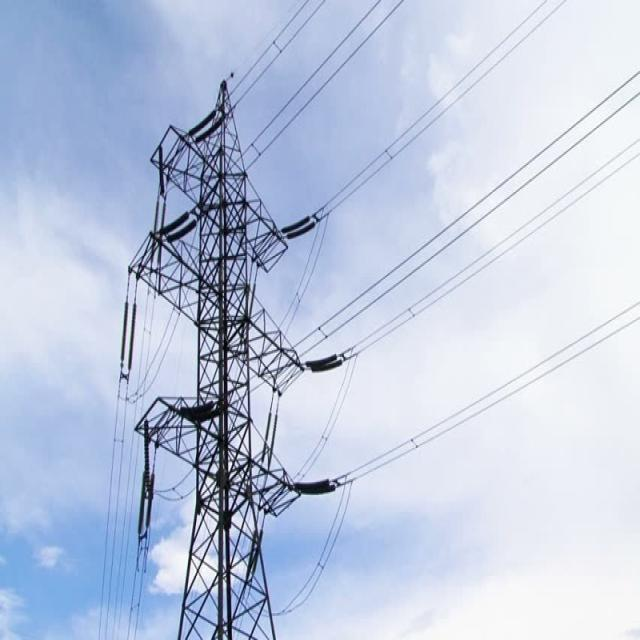non-critical vegetation: (102, 54, 332, 630)
